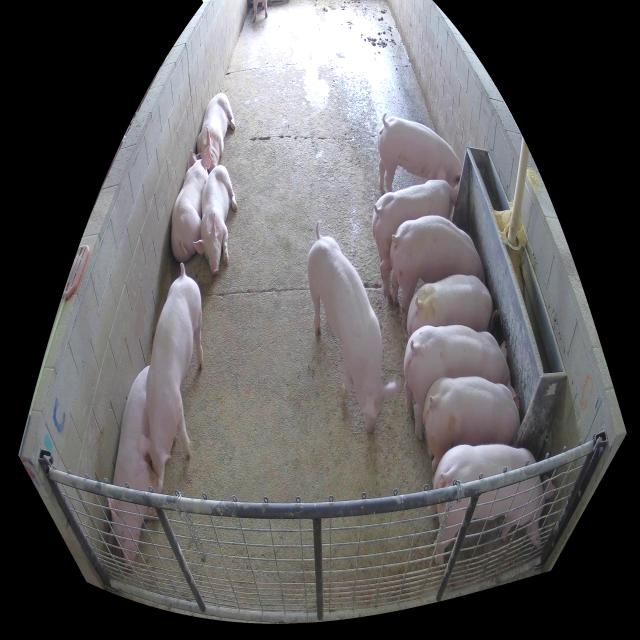pig: (307, 220, 401, 435), (426, 444, 557, 566), (142, 263, 205, 474), (404, 325, 515, 441), (373, 164, 460, 310), (106, 367, 164, 569), (390, 216, 487, 332), (422, 377, 522, 489), (378, 110, 462, 196), (407, 277, 497, 342), (193, 165, 237, 277), (172, 146, 210, 263), (196, 93, 236, 170)
